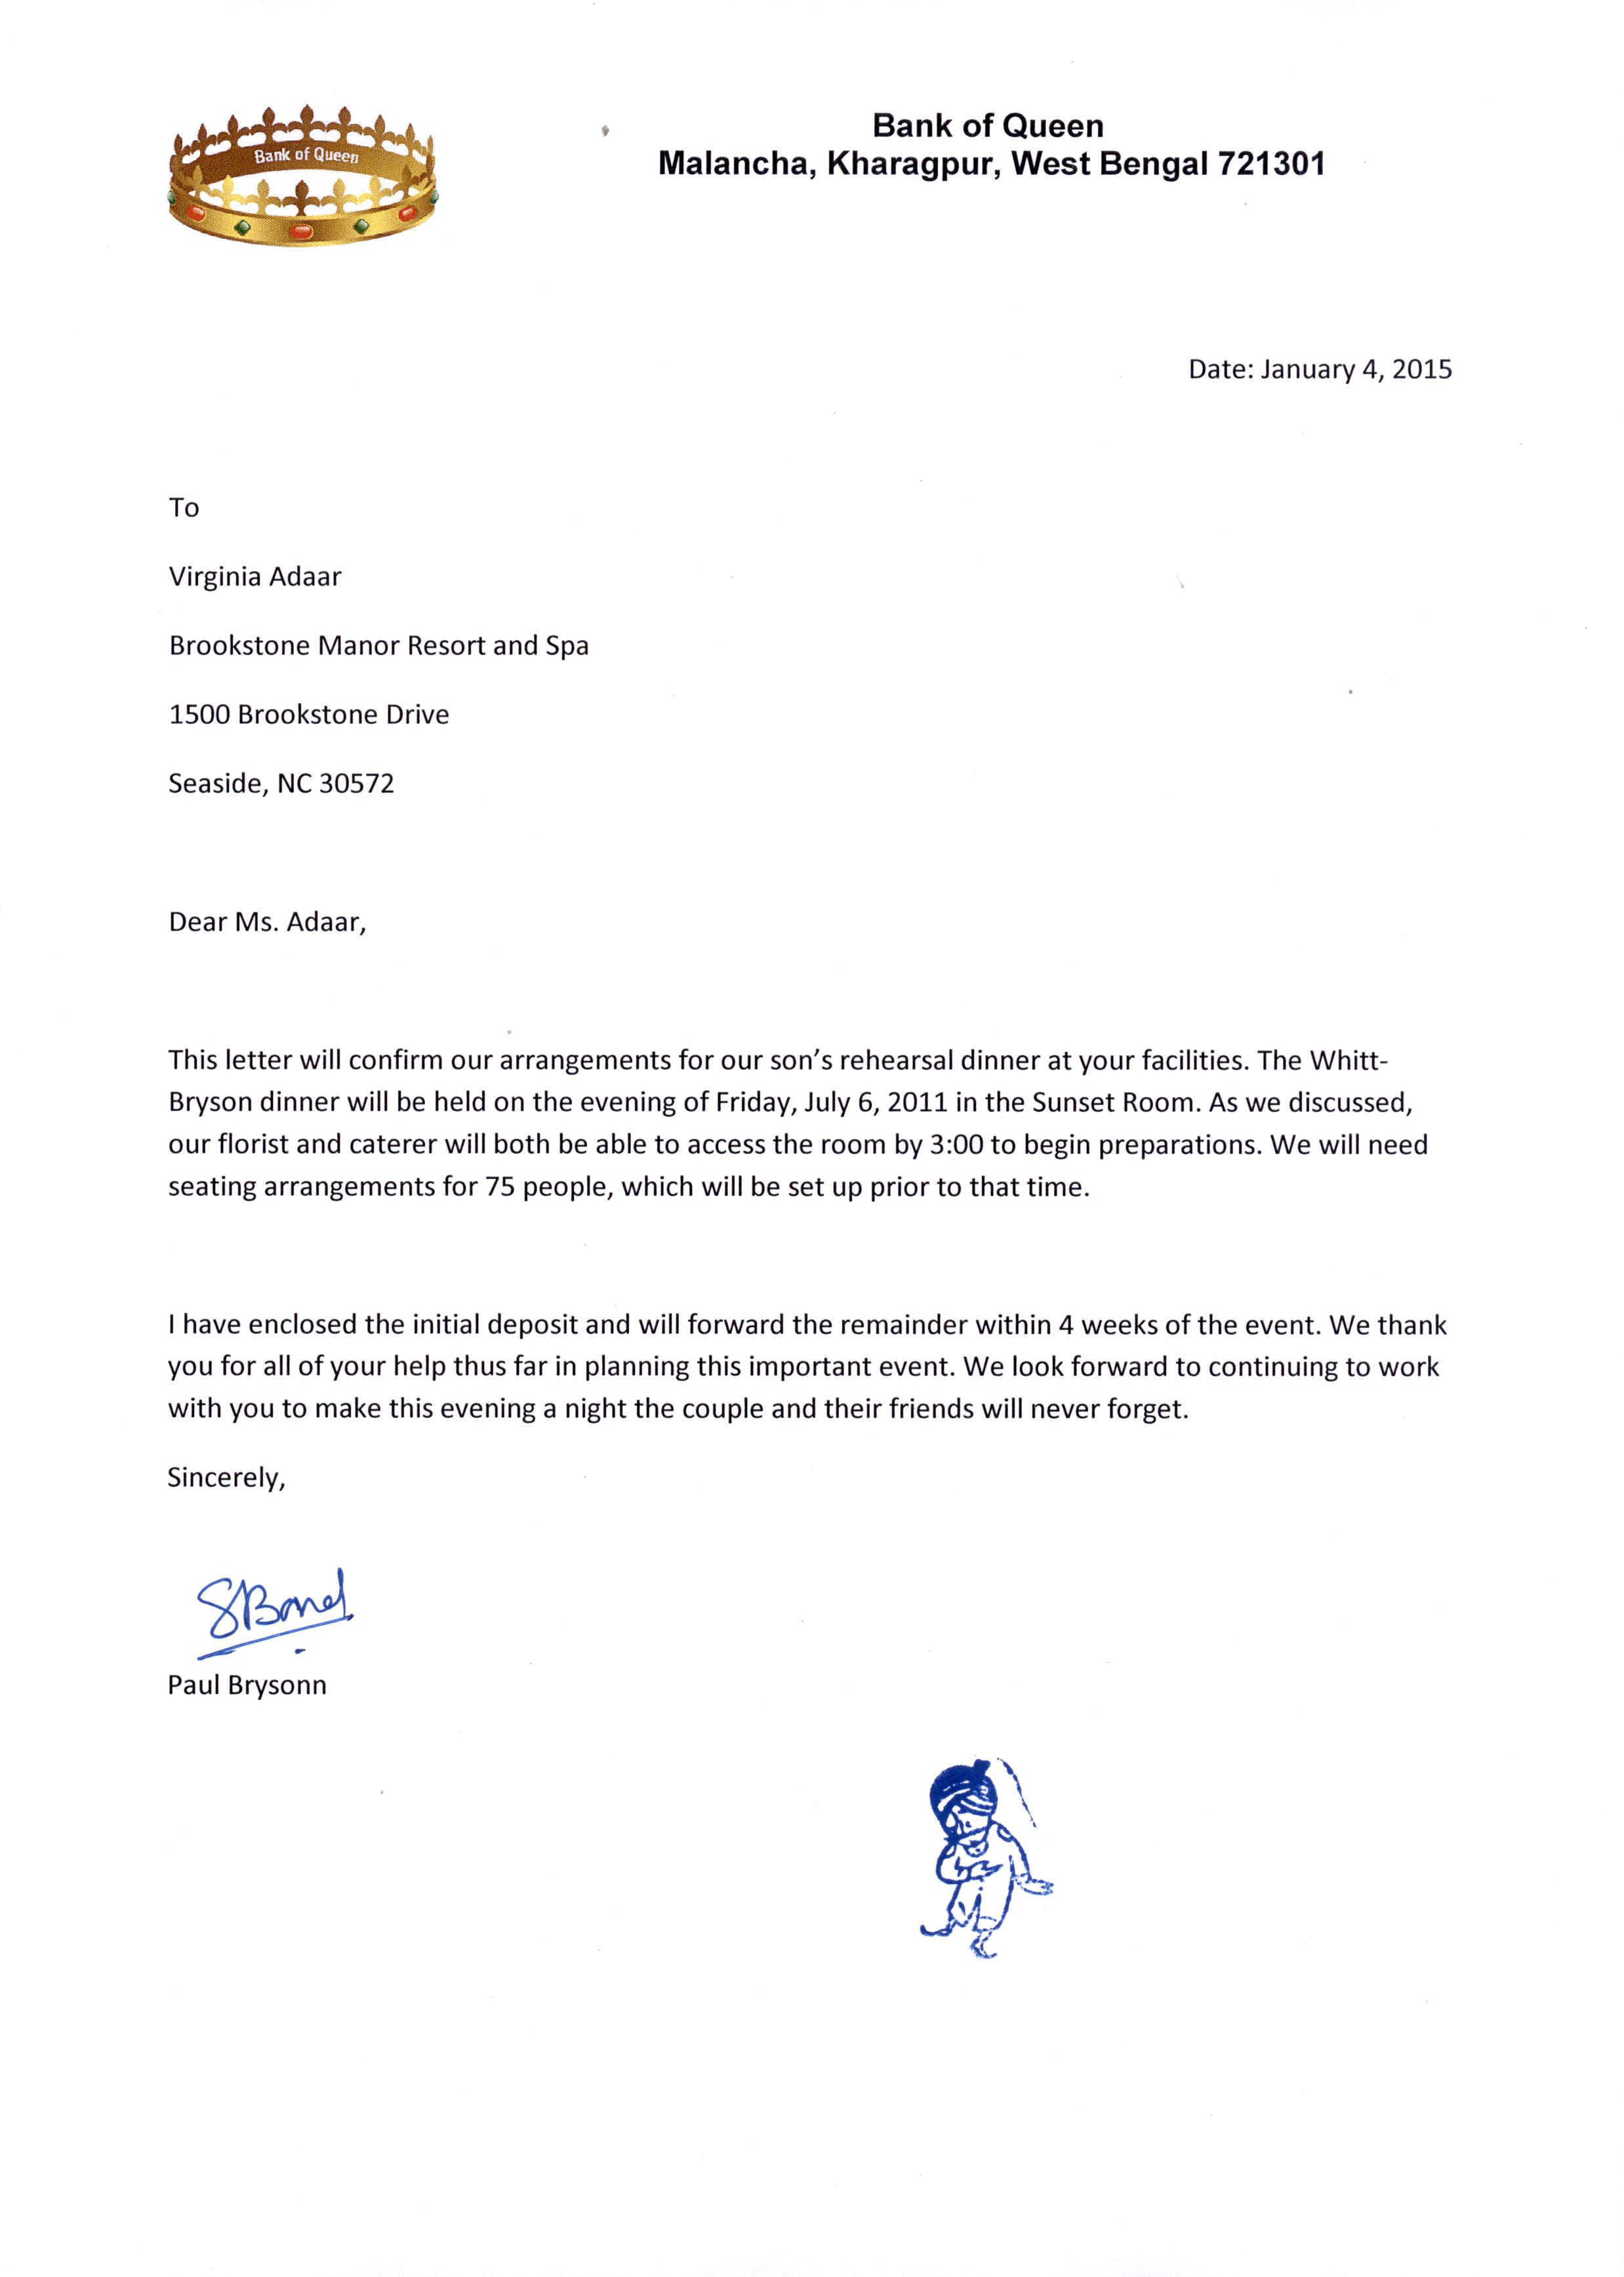Signature: (185, 1560, 362, 1666)
